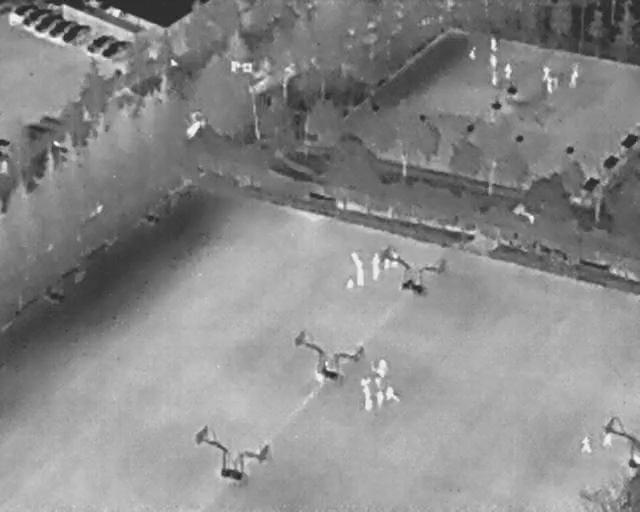Car: (99, 32, 135, 64), (59, 17, 94, 48), (31, 6, 66, 37), (84, 28, 118, 58), (46, 13, 78, 41), (20, 2, 52, 29), (23, 118, 49, 140), (37, 110, 64, 130), (12, 3, 40, 17)
Person: (375, 357, 389, 378), (602, 424, 613, 449), (570, 65, 580, 90), (385, 385, 399, 402), (580, 436, 592, 455), (503, 62, 514, 80), (370, 265, 382, 280), (356, 269, 366, 287), (541, 64, 550, 83), (362, 386, 373, 401), (546, 77, 555, 95), (390, 251, 399, 268), (371, 252, 381, 267), (489, 71, 499, 86), (376, 391, 385, 407), (469, 44, 478, 60), (489, 37, 499, 51), (383, 254, 392, 269), (489, 54, 498, 69), (345, 278, 356, 290), (363, 399, 373, 412), (373, 376, 383, 388), (359, 378, 372, 387), (354, 259, 364, 270), (350, 252, 359, 263)
